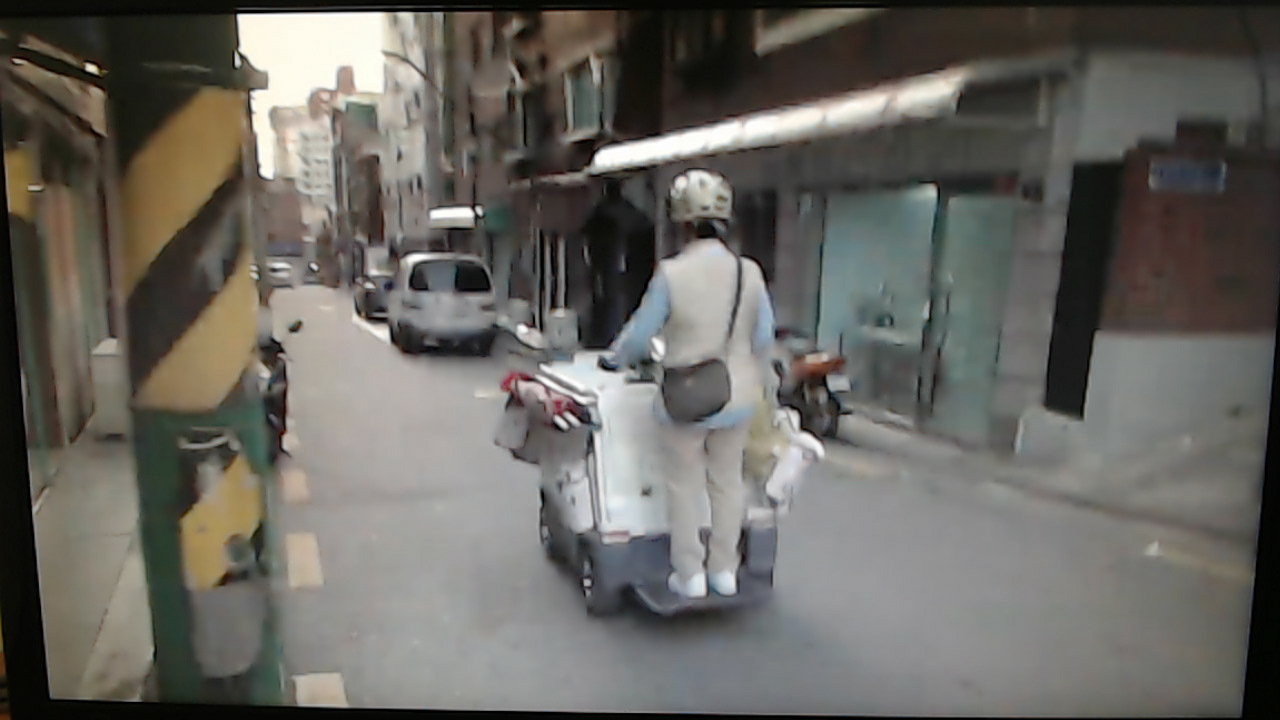Yakurut: (604, 173, 791, 608)
